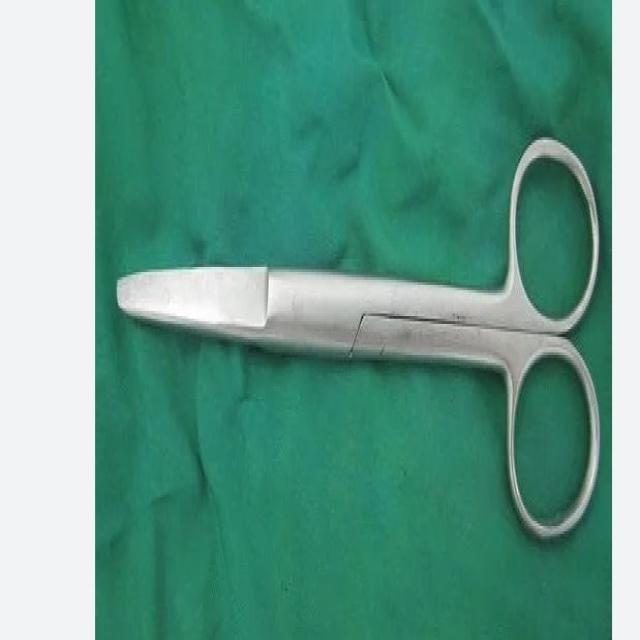Straight Mayo: (110, 133, 602, 549)
